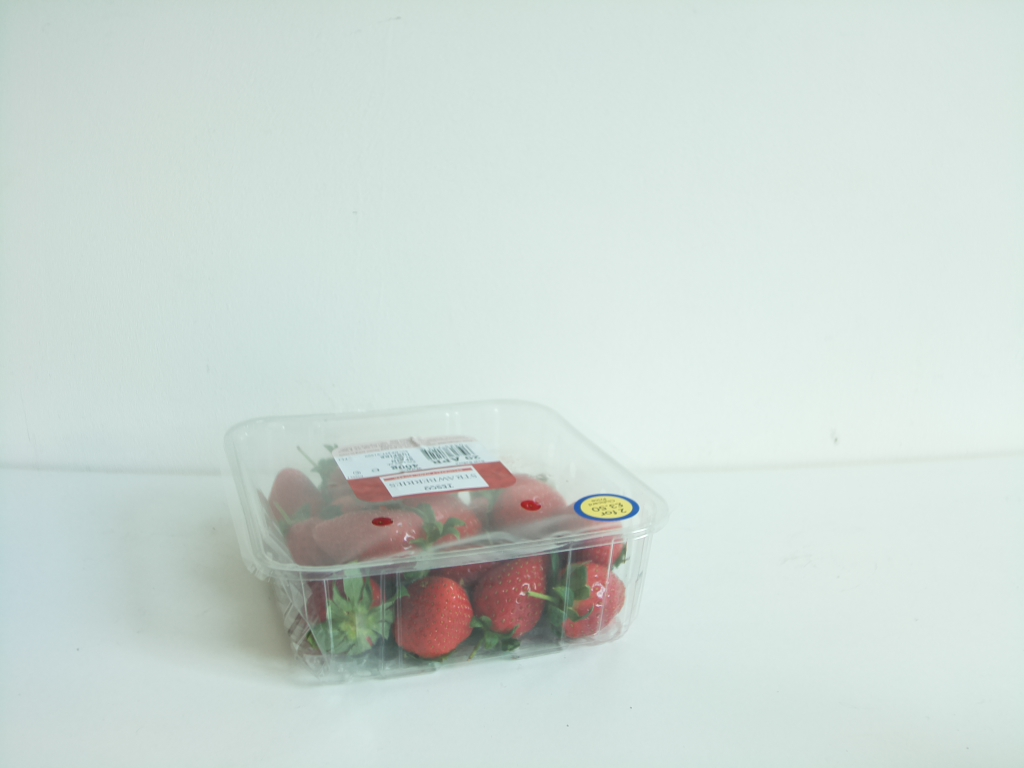soft-fruit: (219, 401, 673, 687)
